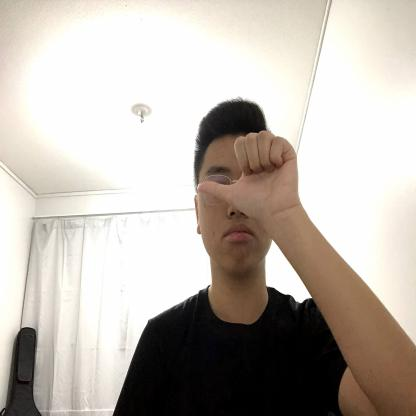right: (196, 134, 299, 232)
